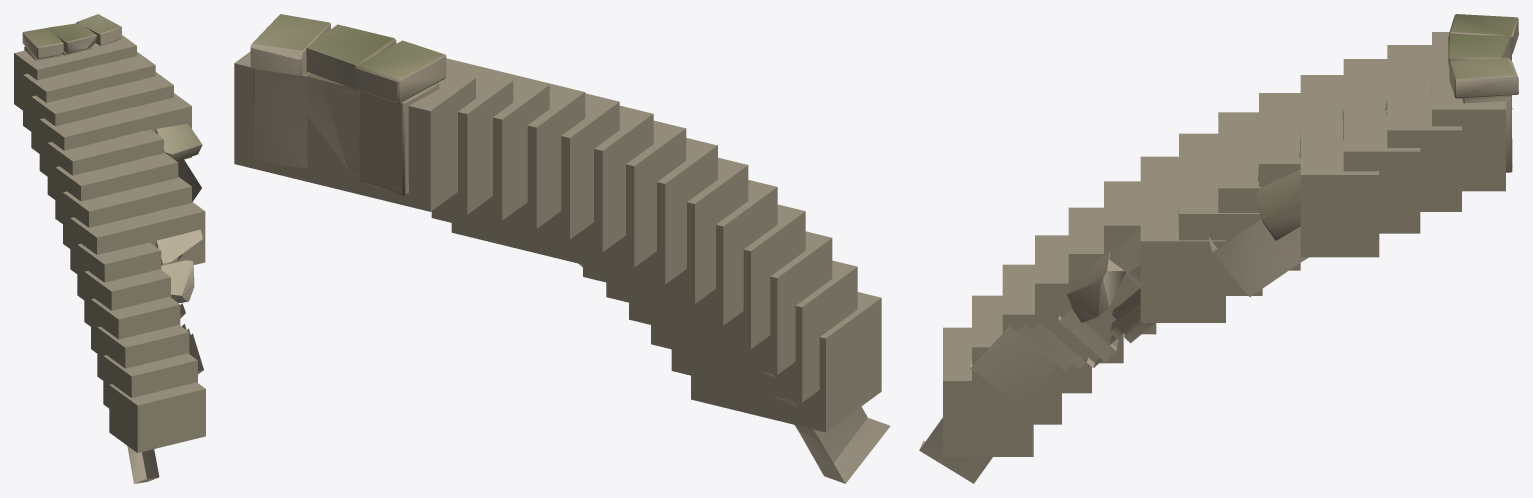
File: dome_shell_bm1.glb
3 views of the same model, side by side, from view 1: azimuth 30°, elevation 25°; view 2: azimuth 150°, elevation 25°; view 3: azimuth 270°, elevation 25° (orthographic). The views are drawn at different scales.
Parts seen in each view (by area): view 1: dome_shell_bm1_far, dome_shell_bm1; view 2: dome_shell_bm1_far, dome_shell_bm1; view 3: dome_shell_bm1_far, dome_shell_bm1.
Part boxes in pixels (x1,y1,x2,y2): dome_shell_bm1_far: (14, 35, 205, 452); dome_shell_bm1: (22, 14, 203, 483); dome_shell_bm1_far: (234, 51, 881, 432); dome_shell_bm1: (250, 14, 890, 483); dome_shell_bm1_far: (943, 32, 1505, 456); dome_shell_bm1: (919, 14, 1518, 483).
Size of the model in its own units: 13.85 by 24.99 by 27.03.
